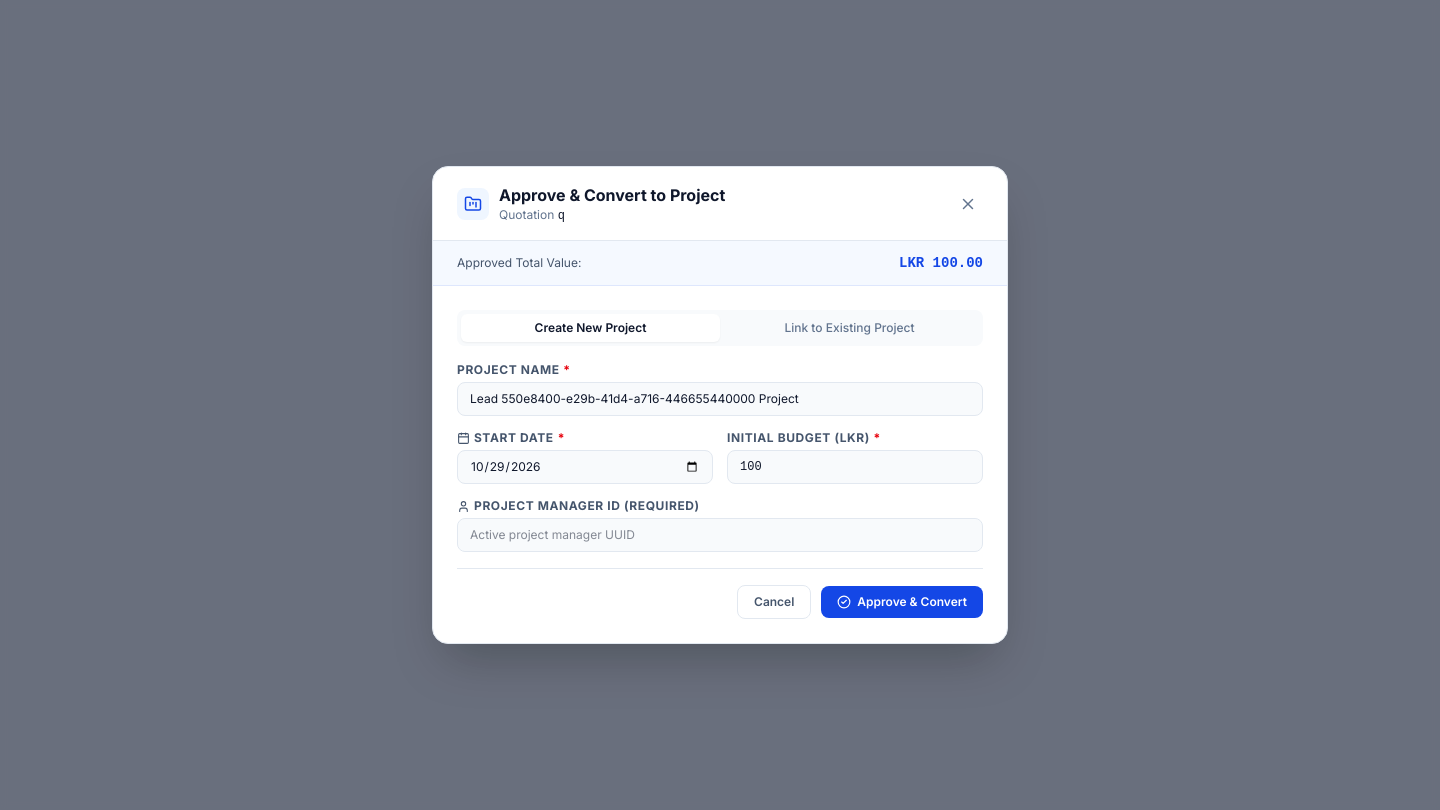
Test case: keeps unrelated conflicts visible instead of marking converted
The image size is (1440, 810).
Type "550e8400-e29b-41d4-a716-446655440000" into the field named "Project manager ID" at (720, 535), box x1=457 y1=518 x2=983 y2=552
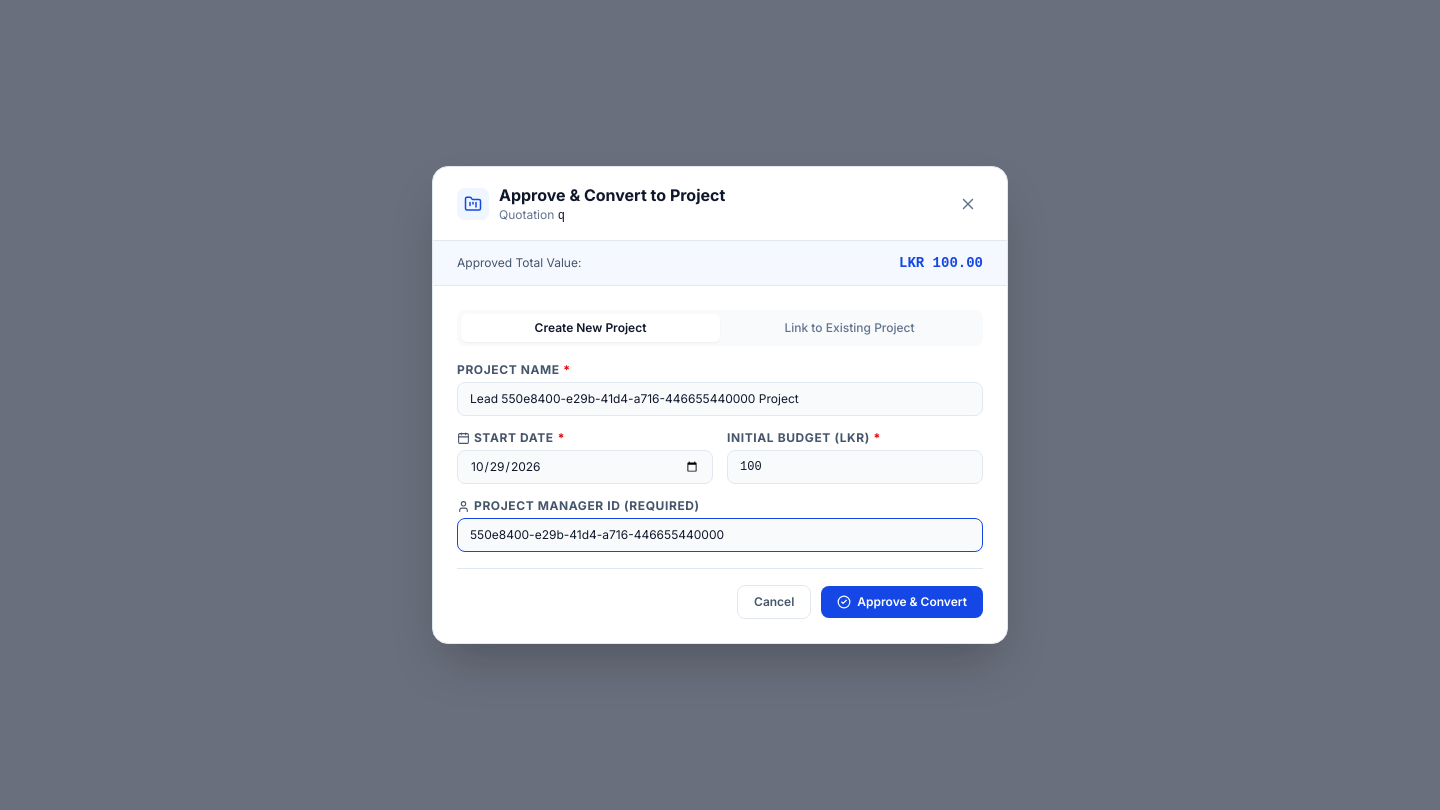
Submit the form, box x1=433 y1=286 x2=1007 y2=643
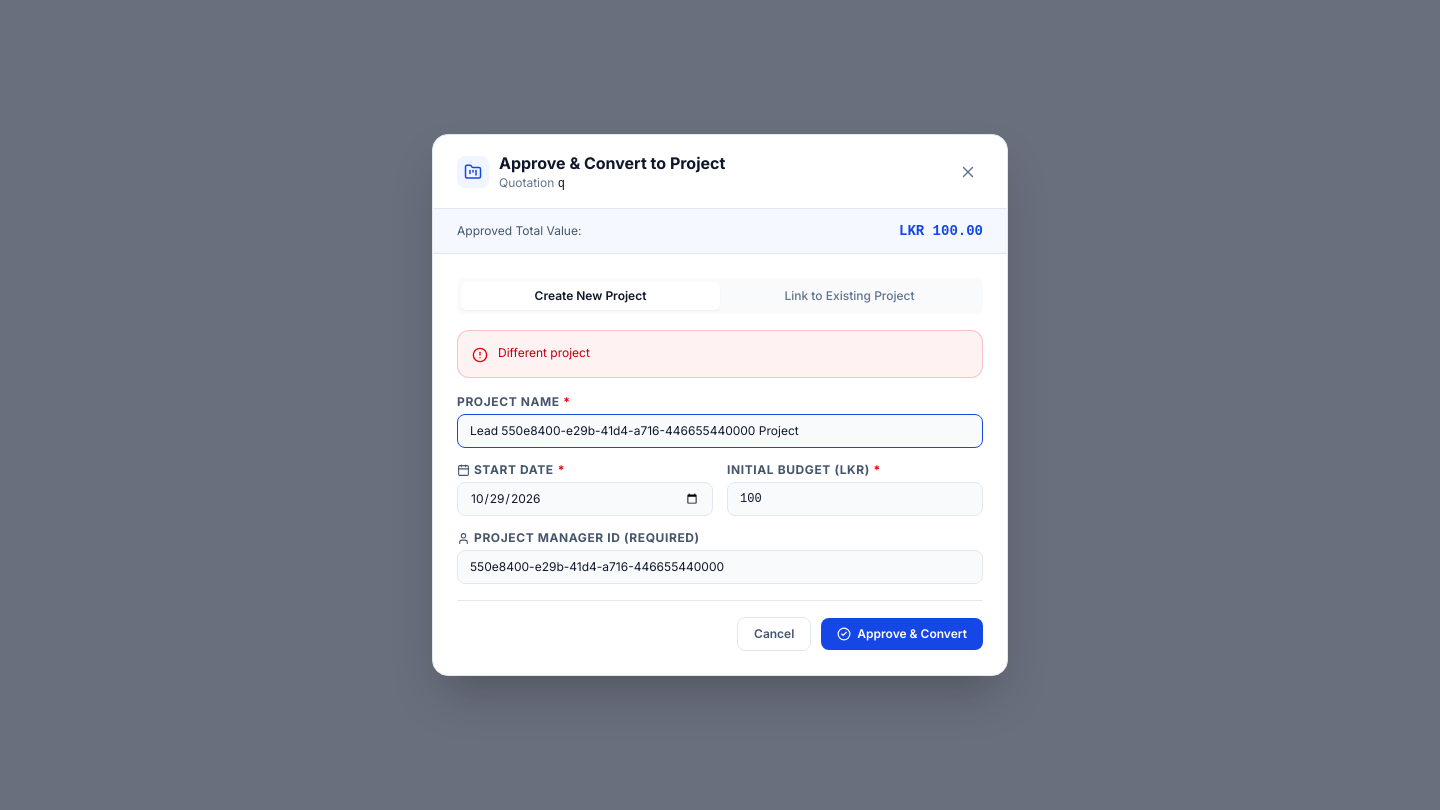
Expected: the text "Different project" is shown, x1=498 y1=345 x2=590 y2=361
